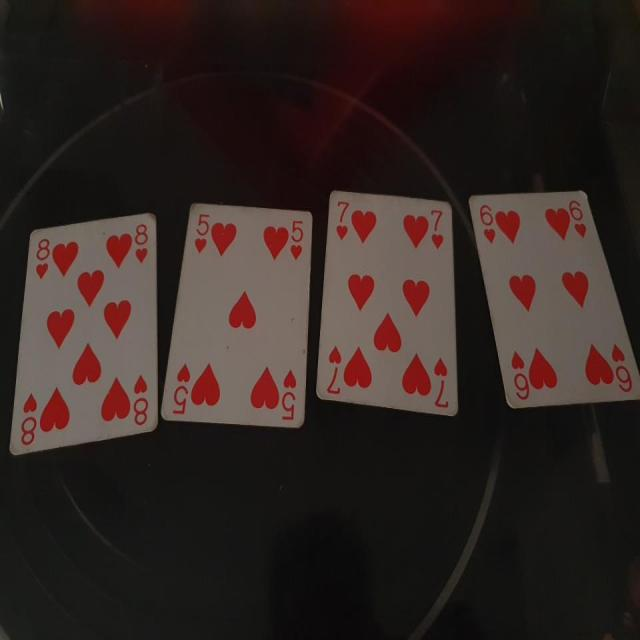5 Hearts: (158, 201, 314, 436)
6 Hearts: (468, 172, 640, 432)
7 Hearts: (312, 182, 468, 428)
8 Hearts: (5, 215, 164, 466)
